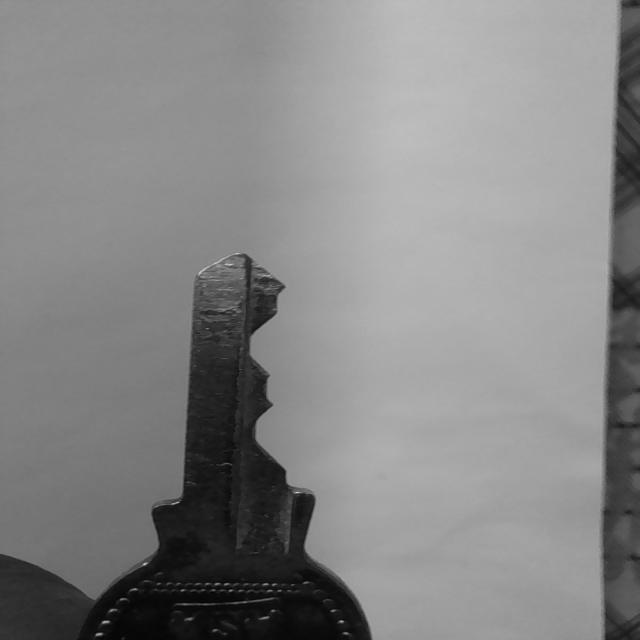KEY: (78, 254, 371, 640)
